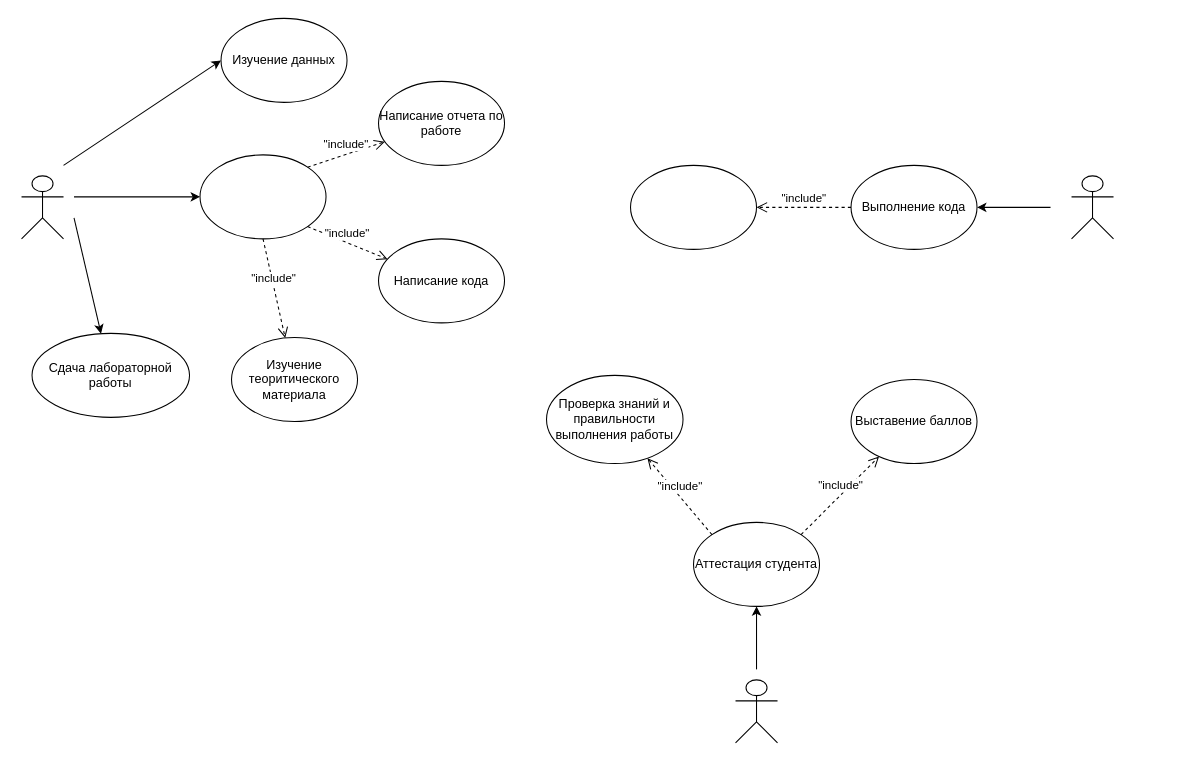
Some shapes in this 1182 by 783 pixel diagram are drawn without their labels. The centre of each missing label's shape, as x and y in pixels:
"Вывод результатов" goes at (x=693, y=206).
"Выполнение лабораторной работы" goes at (x=262, y=196).
"Преподаватель" goes at (x=756, y=711).
"Студент" goes at (x=42, y=207).
"Язык программирования Python" goes at (x=1092, y=207).
